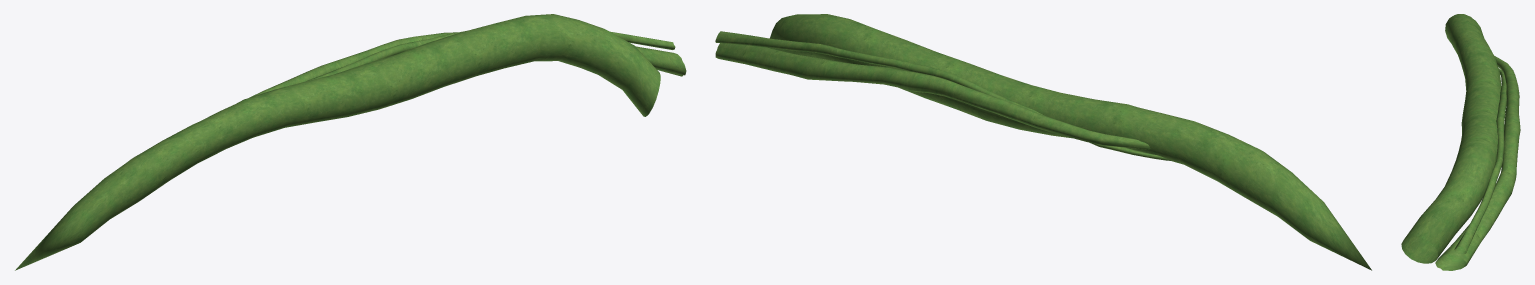
The model's file is SM_ENV_KNFRST_BottomFallenTree_B.FBX.
3 views of the same model, side by side, from view 1: azimuth 30°, elevation 25°; view 2: azimuth 150°, elevation 25°; view 3: azimuth 270°, elevation 25° (orthographic). The views are drawn at different scales.
Visible parts, largest first — view 1: SM_ENV_KNFRST_BottomFallenTree_B; view 2: SM_ENV_KNFRST_BottomFallenTree_B; view 3: SM_ENV_KNFRST_BottomFallenTree_B.
Part boxes in pixels (x1=…): SM_ENV_KNFRST_BottomFallenTree_B: x1=15, y1=14, x2=686, y2=270; SM_ENV_KNFRST_BottomFallenTree_B: x1=715, y1=14, x2=1371, y2=270; SM_ENV_KNFRST_BottomFallenTree_B: x1=1401, y1=14, x2=1520, y2=270.
Bounding box in the file's own units: 5725 × 1041 × 1060.
